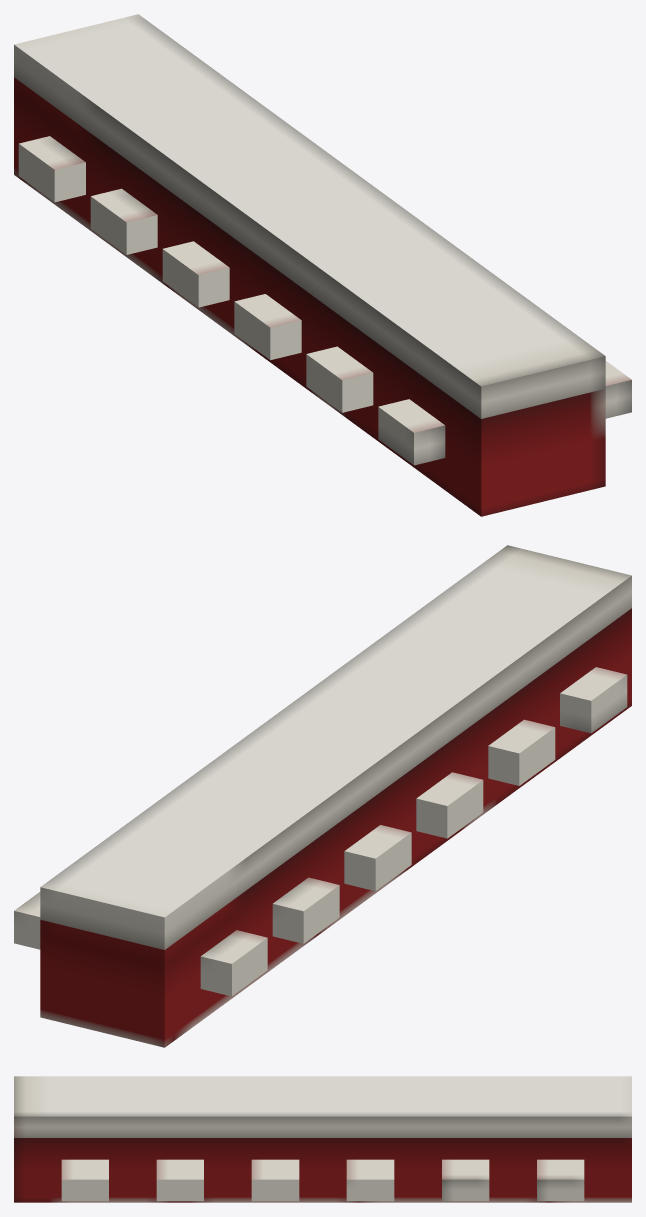
The model's file is ArgentineParrilla.fbx.
The picture shows the model from 3 angles, top to bottom: view 1: azimuth 30°, elevation 25°; view 2: azimuth 150°, elevation 25°; view 3: azimuth 270°, elevation 25°; orthographic projection. The views are drawn at different scales.
Parts seen in each view (by area): view 1: fat_layer, meat_box_1, meat_box, bone_5, bone_2, bone_4, bone_1, bone_3, bone_6; view 2: fat_layer, meat_box_1, meat_box, bone_6, bone_1, bone_3, bone_2, bone_4, bone_5; view 3: fat_layer, meat_box_1, meat_box, bone_2, bone_3, bone_1, bone_4, bone_5, bone_6.
Part boxes in pixels (x1,y1,x2,y2): fat_layer: (14,14,605,418); meat_box_1: (14,77,605,484); meat_box: (14,142,605,516); bone_5: (378,361,631,465); bone_2: (162,241,229,307); bone_4: (306,346,373,412); bone_1: (90,188,157,254); bone_3: (234,294,301,360); bone_6: (18,136,85,202); fat_layer: (40,545,631,949); meat_box_1: (40,608,631,1015); meat_box: (40,673,631,1047); bone_6: (14,892,267,996); bone_1: (272,877,339,943); bone_3: (416,772,483,838); bone_2: (344,825,411,891); bone_4: (488,719,555,785); bone_5: (560,667,627,733); fat_layer: (14,1076,631,1137); meat_box_1: (14,1138,631,1180); meat_box: (14,1181,631,1202); bone_2: (346,1159,394,1201); bone_3: (251,1159,299,1201); bone_1: (442,1159,489,1201); bone_4: (156,1159,203,1201); bone_5: (61,1159,108,1201); bone_6: (537,1159,584,1201).
Bounding box in the file's own units: 43.75 × 25 × 162.
Materials: 1 (1 with a texture image).
